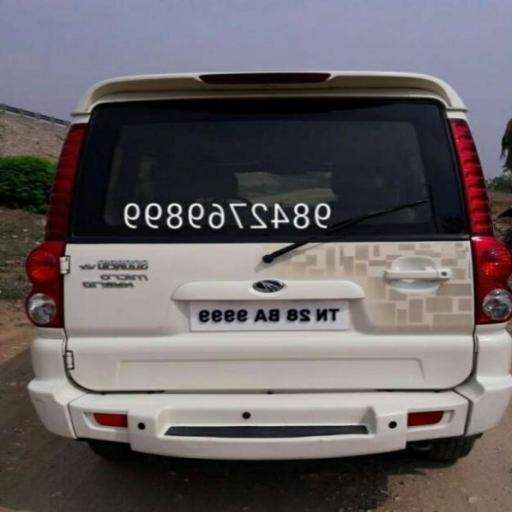License: (191, 300, 352, 330)
